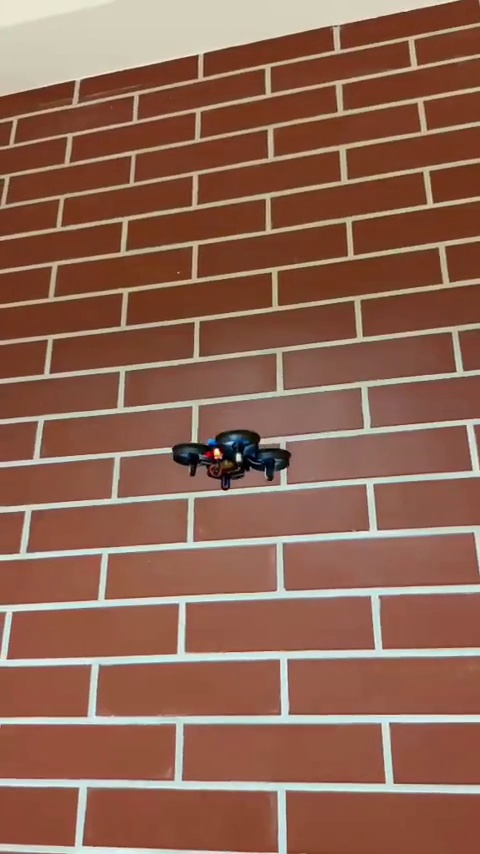drone: (172, 431, 285, 495)
